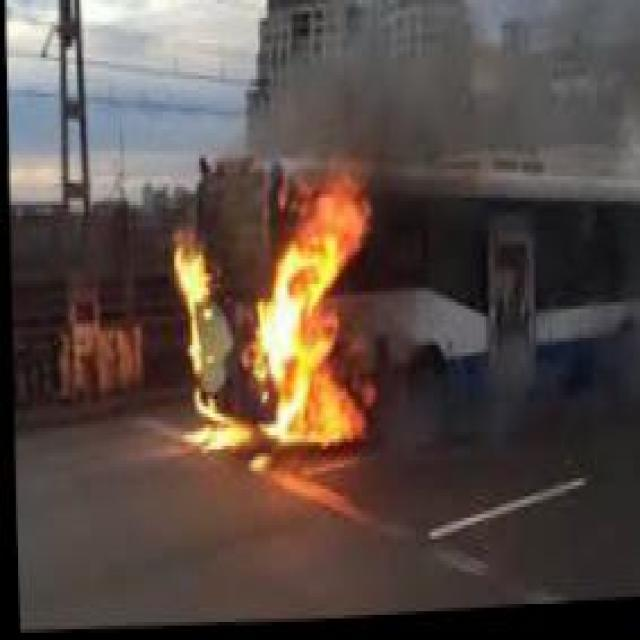Fire: (154, 162, 378, 471)
Smoke: (221, 0, 637, 183)
